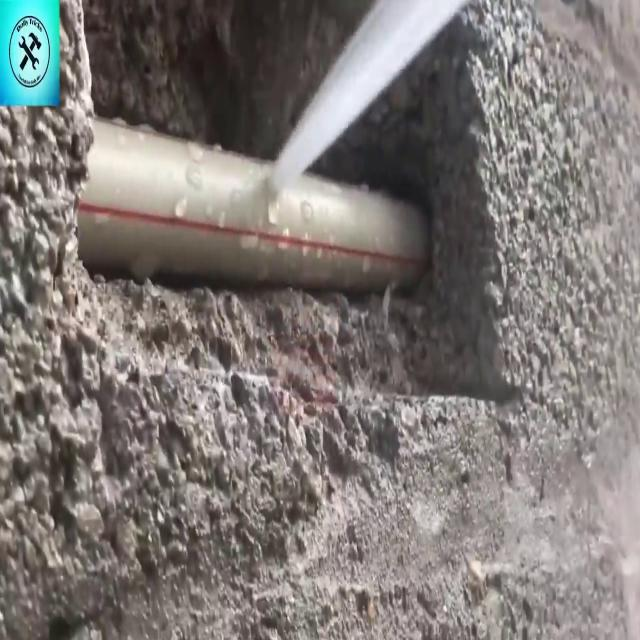leak: (263, 0, 487, 199)
